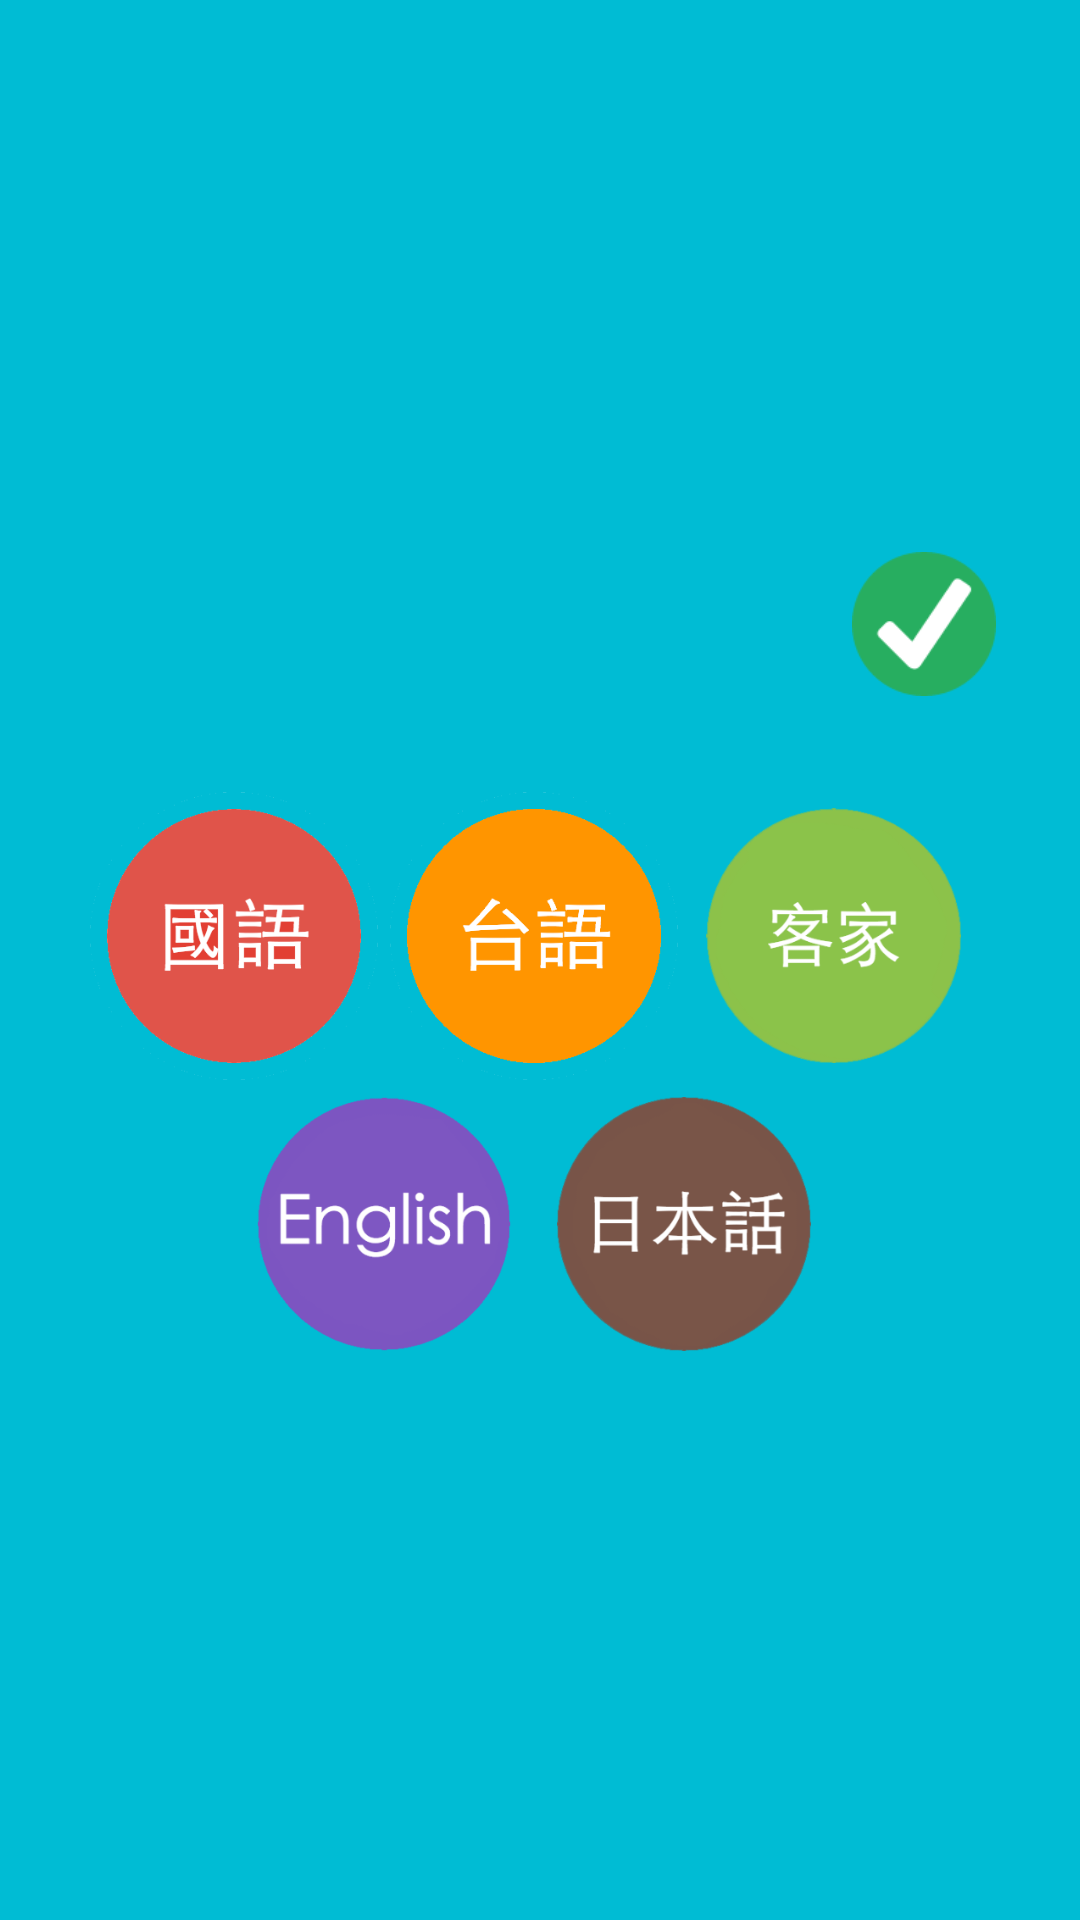

Where icons sit on this 1080*1920 app screen, as (x1, y1, x2, y2):
confirm: (852, 552, 996, 696)
